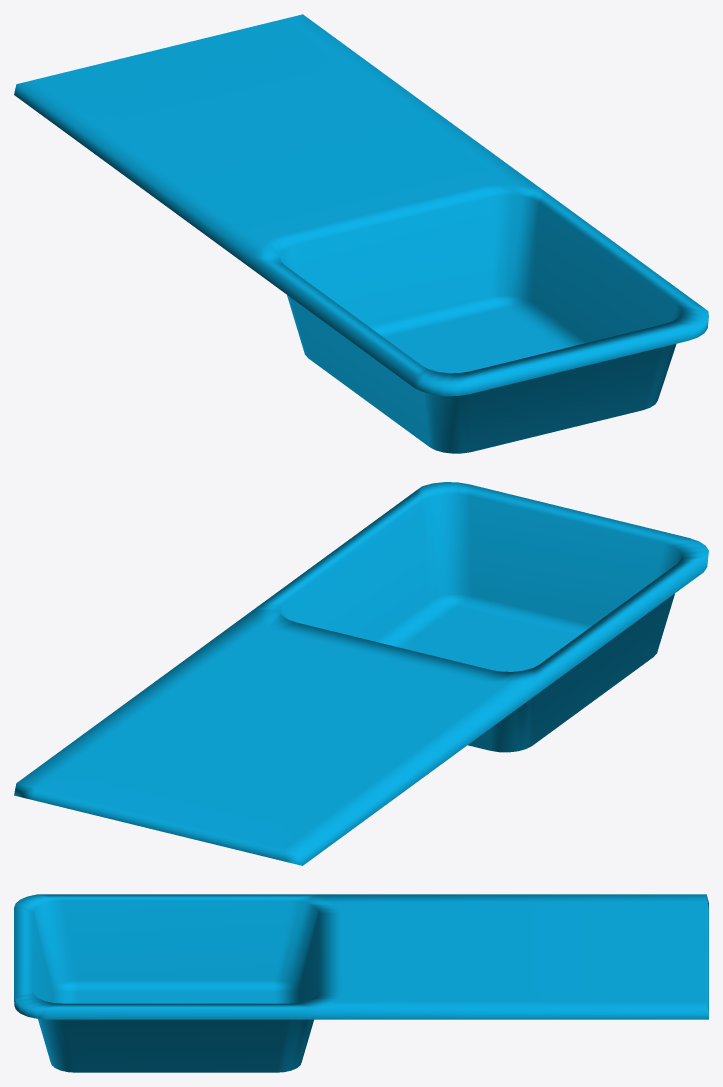
Rendered from Kitchen_Sink_02_Lod0.fbx.
The picture shows the model from 3 angles, top to bottom: view 1: azimuth 30°, elevation 25°; view 2: azimuth 150°, elevation 25°; view 3: azimuth 270°, elevation 25°; orthographic projection. The views are drawn at different scales.
Parts seen in each view (by area): view 1: Kitchen_Sink_02_Lod0; view 2: Kitchen_Sink_02_Lod0; view 3: Kitchen_Sink_02_Lod0.
Boxes of the visible parts, x1,y1,x2,y2 form: Kitchen_Sink_02_Lod0: [14, 14, 708, 453]; Kitchen_Sink_02_Lod0: [14, 482, 708, 865]; Kitchen_Sink_02_Lod0: [14, 894, 708, 1072].
Size of the model in its own units: 60.6 by 18.31 by 153.
